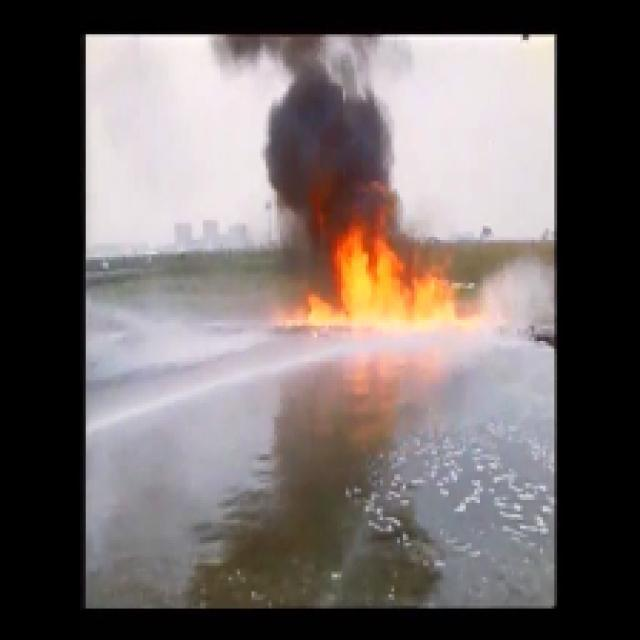Fire: (314, 238, 464, 326)
Smoke: (236, 35, 404, 226)
